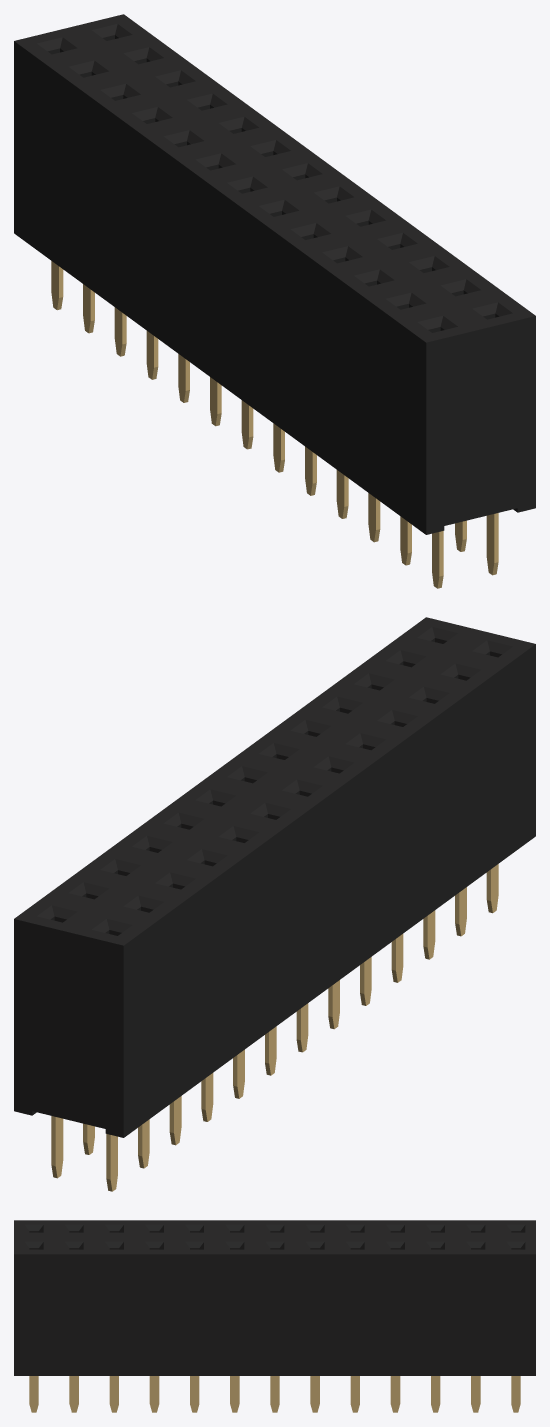
File: kc-pinsocket_2x13_p2.54mm_vertical.glb
3 renders of one model, top to bottom at view 1: azimuth 30°, elevation 25°; view 2: azimuth 150°, elevation 25°; view 3: azimuth 270°, elevation 25°, orthographic. The views are drawn at different scales.
Parts seen in each view (by area): view 1: 0_0_0_0, 0.75_0.5_0.25_0.9; view 2: 0_0_0_0, 0.75_0.5_0.25_0.9; view 3: 0_0_0_0, 0.75_0.5_0.25_0.9.
Part boxes in pixels (x1,y1,x2,y2): 0_0_0_0: (14, 14, 535, 534); 0.75_0.5_0.25_0.9: (51, 261, 498, 588); 0_0_0_0: (14, 617, 535, 1137); 0.75_0.5_0.25_0.9: (51, 864, 498, 1191); 0_0_0_0: (14, 1220, 535, 1375); 0.75_0.5_0.25_0.9: (29, 1376, 520, 1412).
Bounding box in the file's own units: 0.5079 × 1.16 × 3.3.
